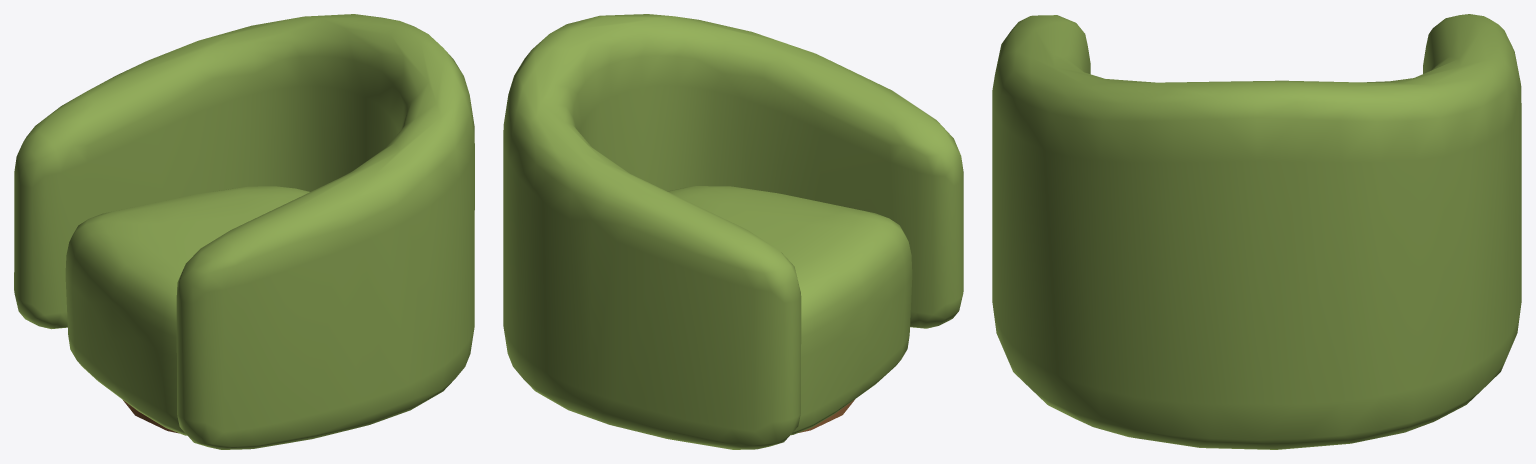
File: armchair_04_green.fbx
3 views of the same model, side by side, from view 1: azimuth 30°, elevation 25°; view 2: azimuth 150°, elevation 25°; view 3: azimuth 270°, elevation 25° (orthographic). The views are drawn at different scales.
Parts seen in each view (by area): view 1: armchair_04_green; view 2: armchair_04_green; view 3: armchair_04_green.
Boxes of the visible parts, box(x1,y1,x2,y2) form: armchair_04_green: box(14, 14, 474, 449); armchair_04_green: box(503, 14, 963, 449); armchair_04_green: box(992, 14, 1521, 449).
Bounding box in the file's own units: 115 × 99.69 × 122.
2 materials, 2 textured.
